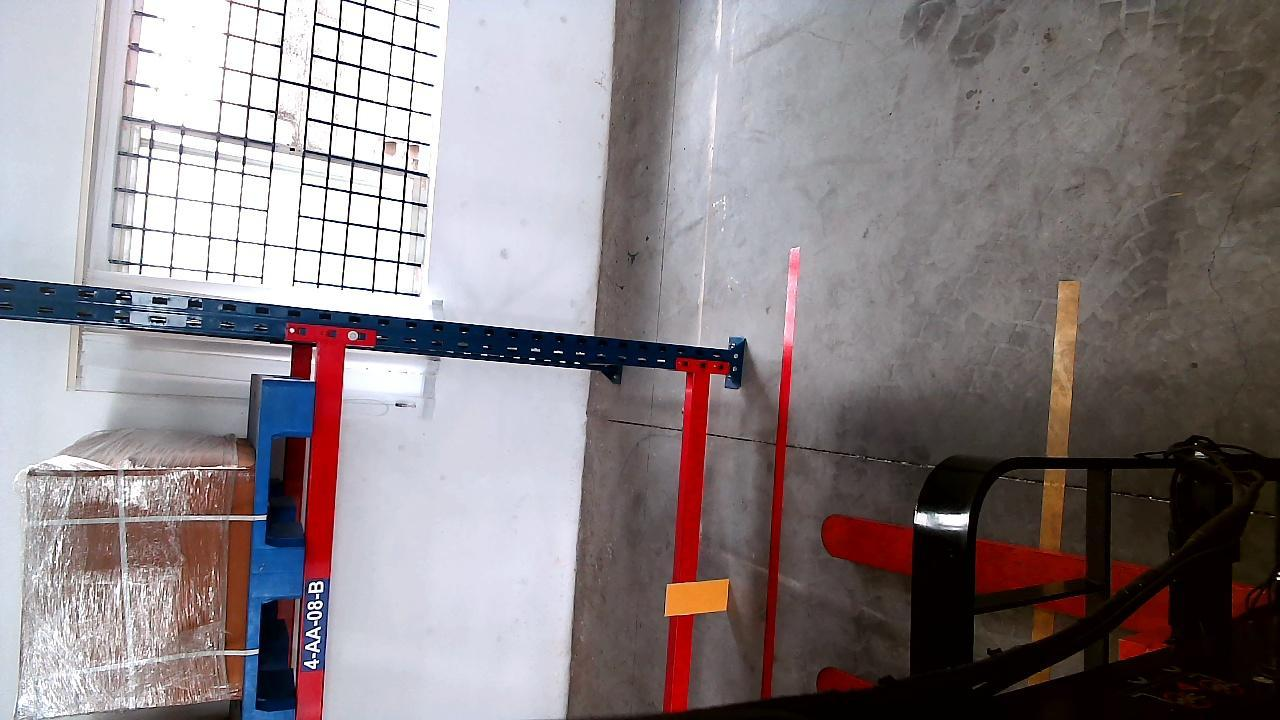red_line: (759, 245, 802, 698)
yellow_line: (1040, 277, 1078, 551)
